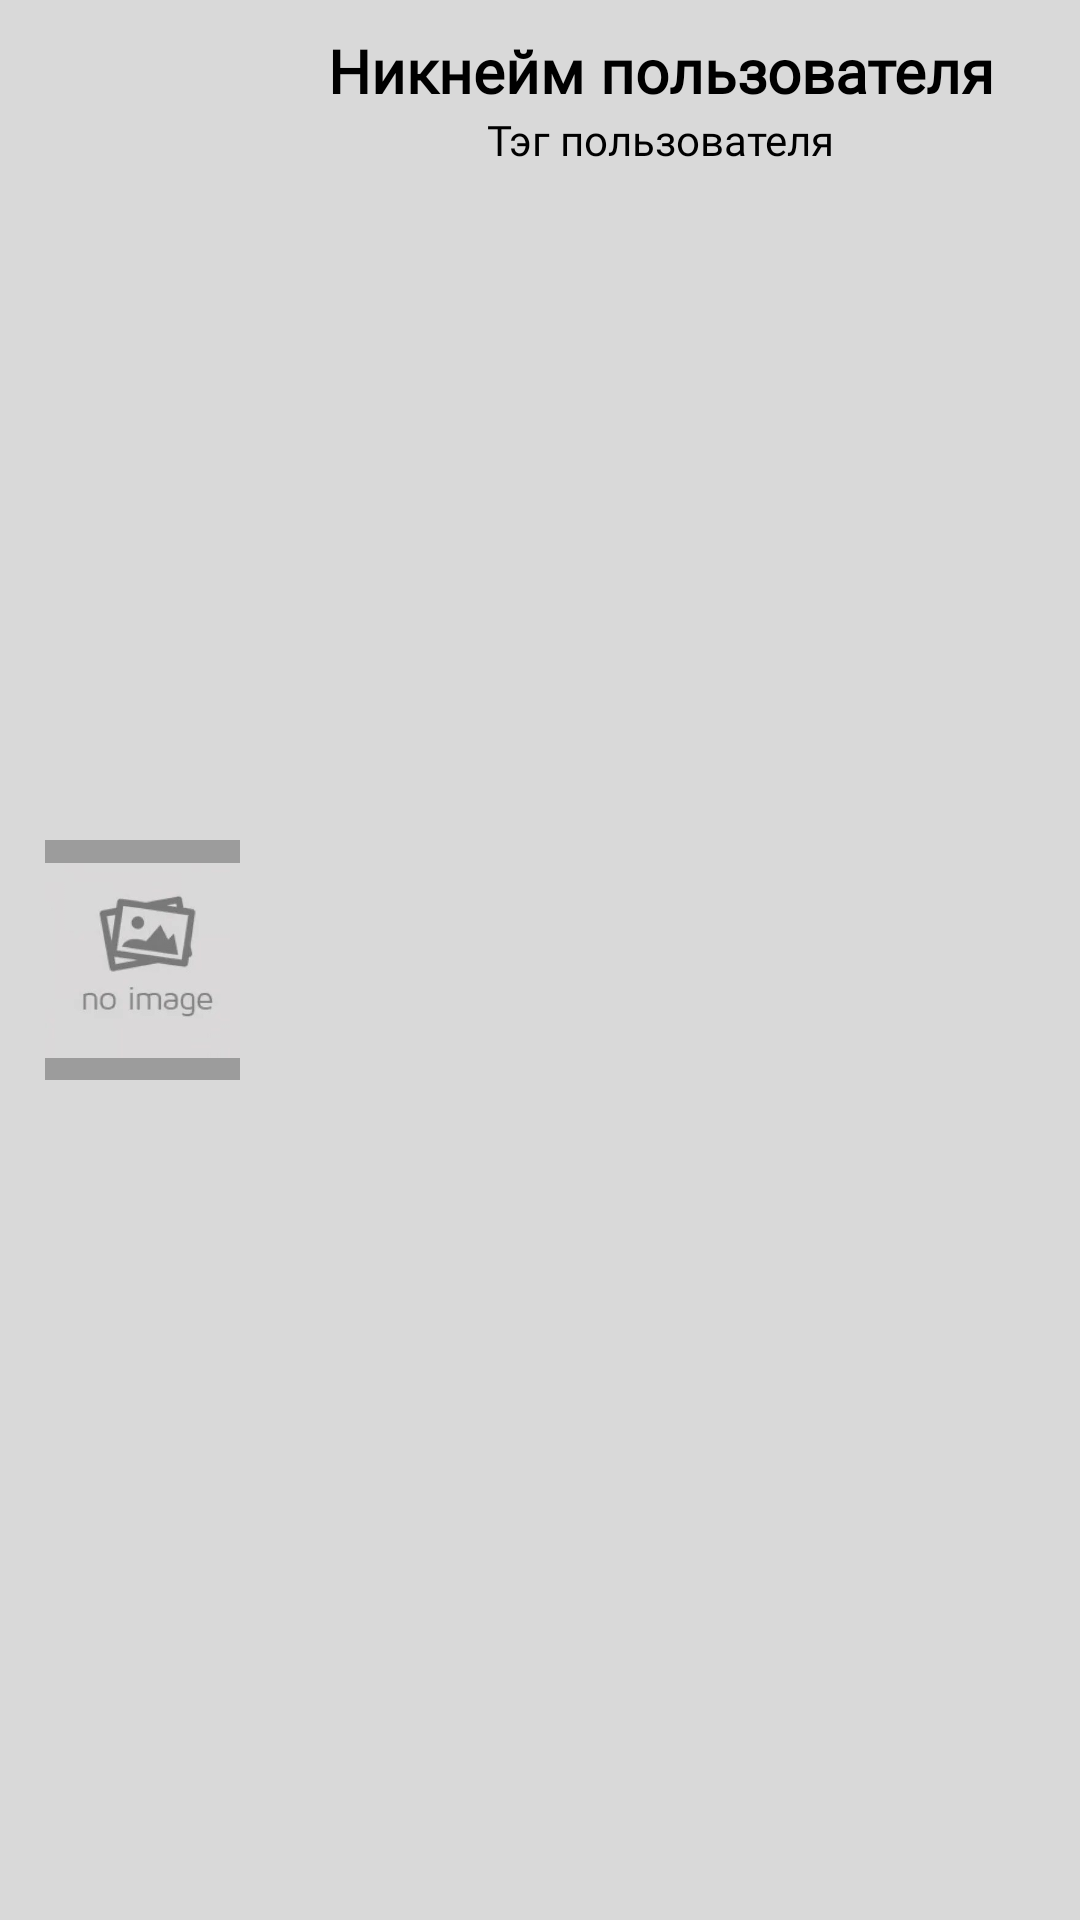

Screen size 1080w x 1920h. Icon name, then its box in pixels as (x1=x1, y1=y1, x2=x2, y2=y2):
empty: (x1=45, y1=840, x2=240, y2=1080)
